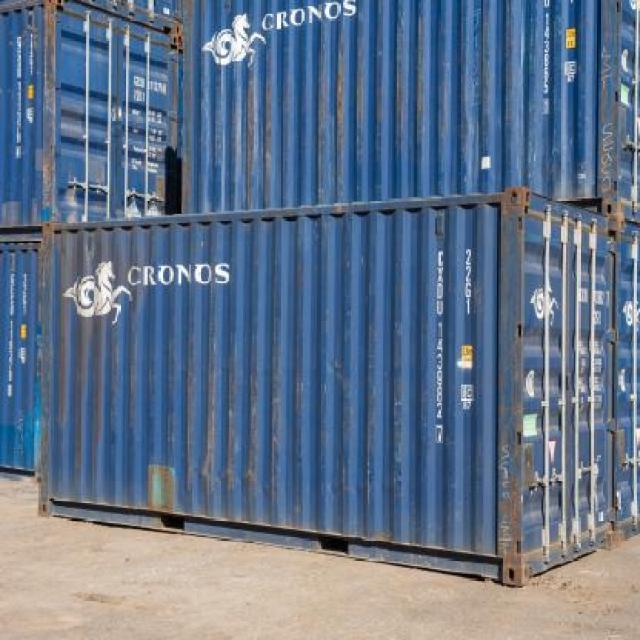ISO: (458, 244, 474, 322)
container_number: (431, 235, 446, 455)
